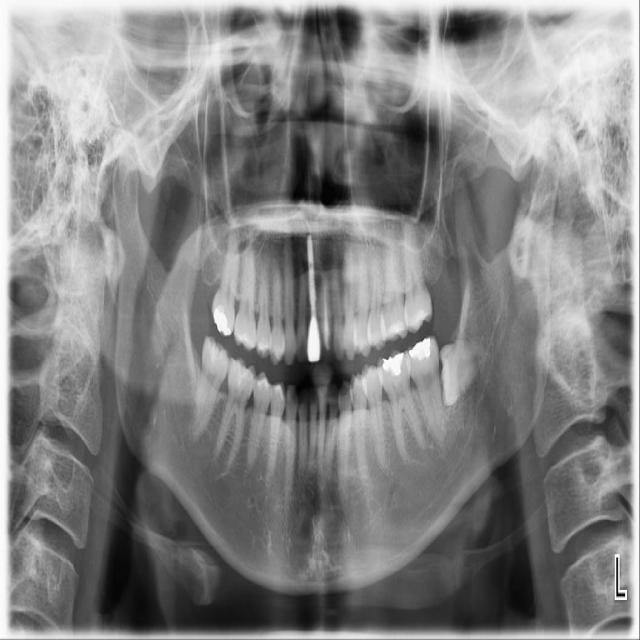Crown: (306, 317, 322, 363)
Filling: (214, 308, 232, 336), (409, 338, 430, 360), (383, 353, 403, 376)
Periapical lesion: (243, 456, 258, 478)
impacted tooth: (439, 336, 490, 406)
